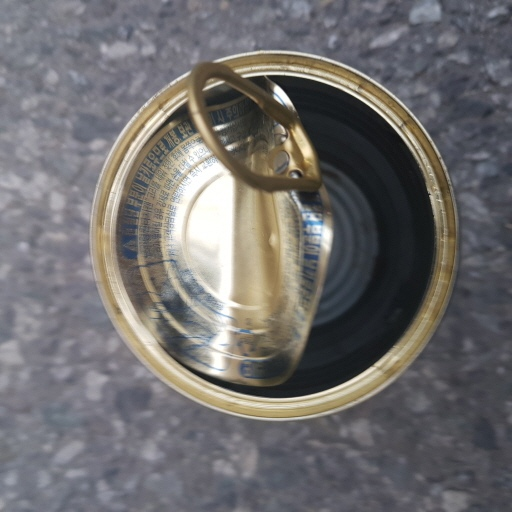Metal_1: (91, 46, 462, 423)
